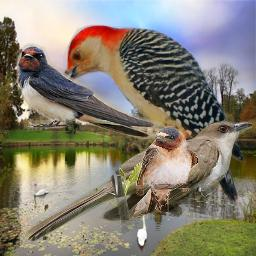Cuckoo: (23, 119, 252, 241)
Swallow: (16, 43, 197, 152), (136, 126, 198, 213)
Woodpecker: (50, 24, 249, 212)
